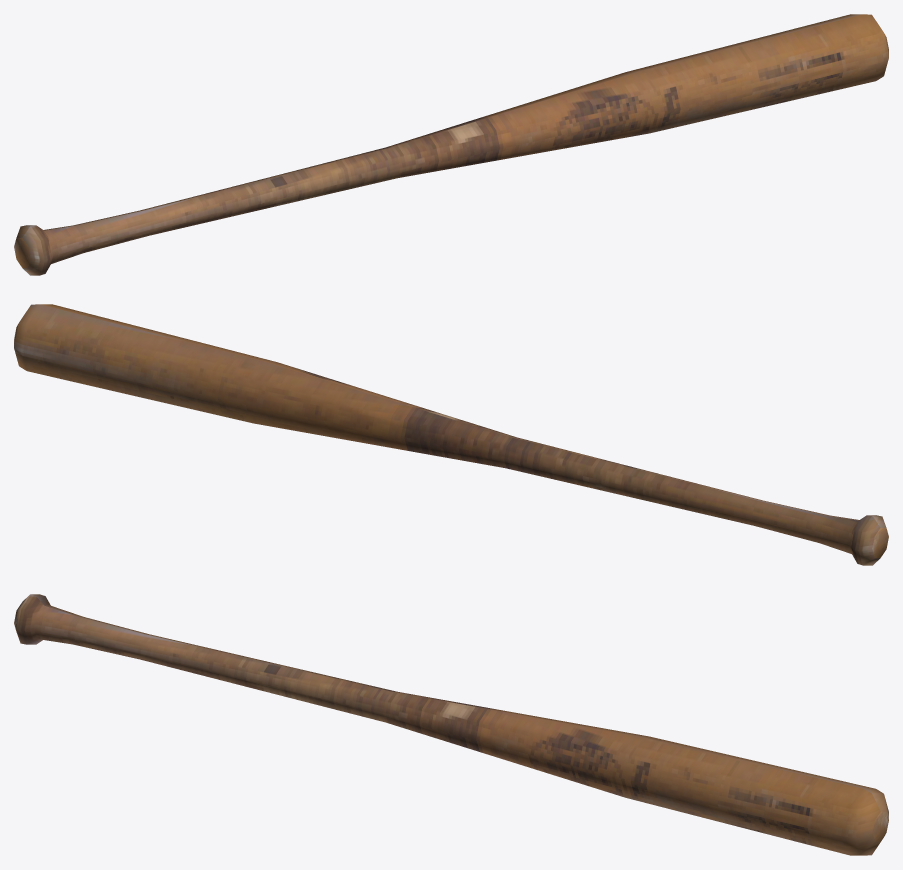
File: baseballbat.fbx
3 views of the same model, one above another, from view 1: azimuth 30°, elevation 25°; view 2: azimuth 150°, elevation 25°; view 3: azimuth 330°, elevation 25° (orthographic).
Visible parts, largest first — view 1: Cylinder; view 2: Cylinder; view 3: Cylinder.
Boxes of the visible parts, <box> form: Cylinder: <box>14,14,888,275</box>; Cylinder: <box>14,304,888,565</box>; Cylinder: <box>14,594,888,855</box>.
Bounding box in the file's own units: 464 × 34.67 × 34.67.
Materials: 1 (1 with a texture image).
